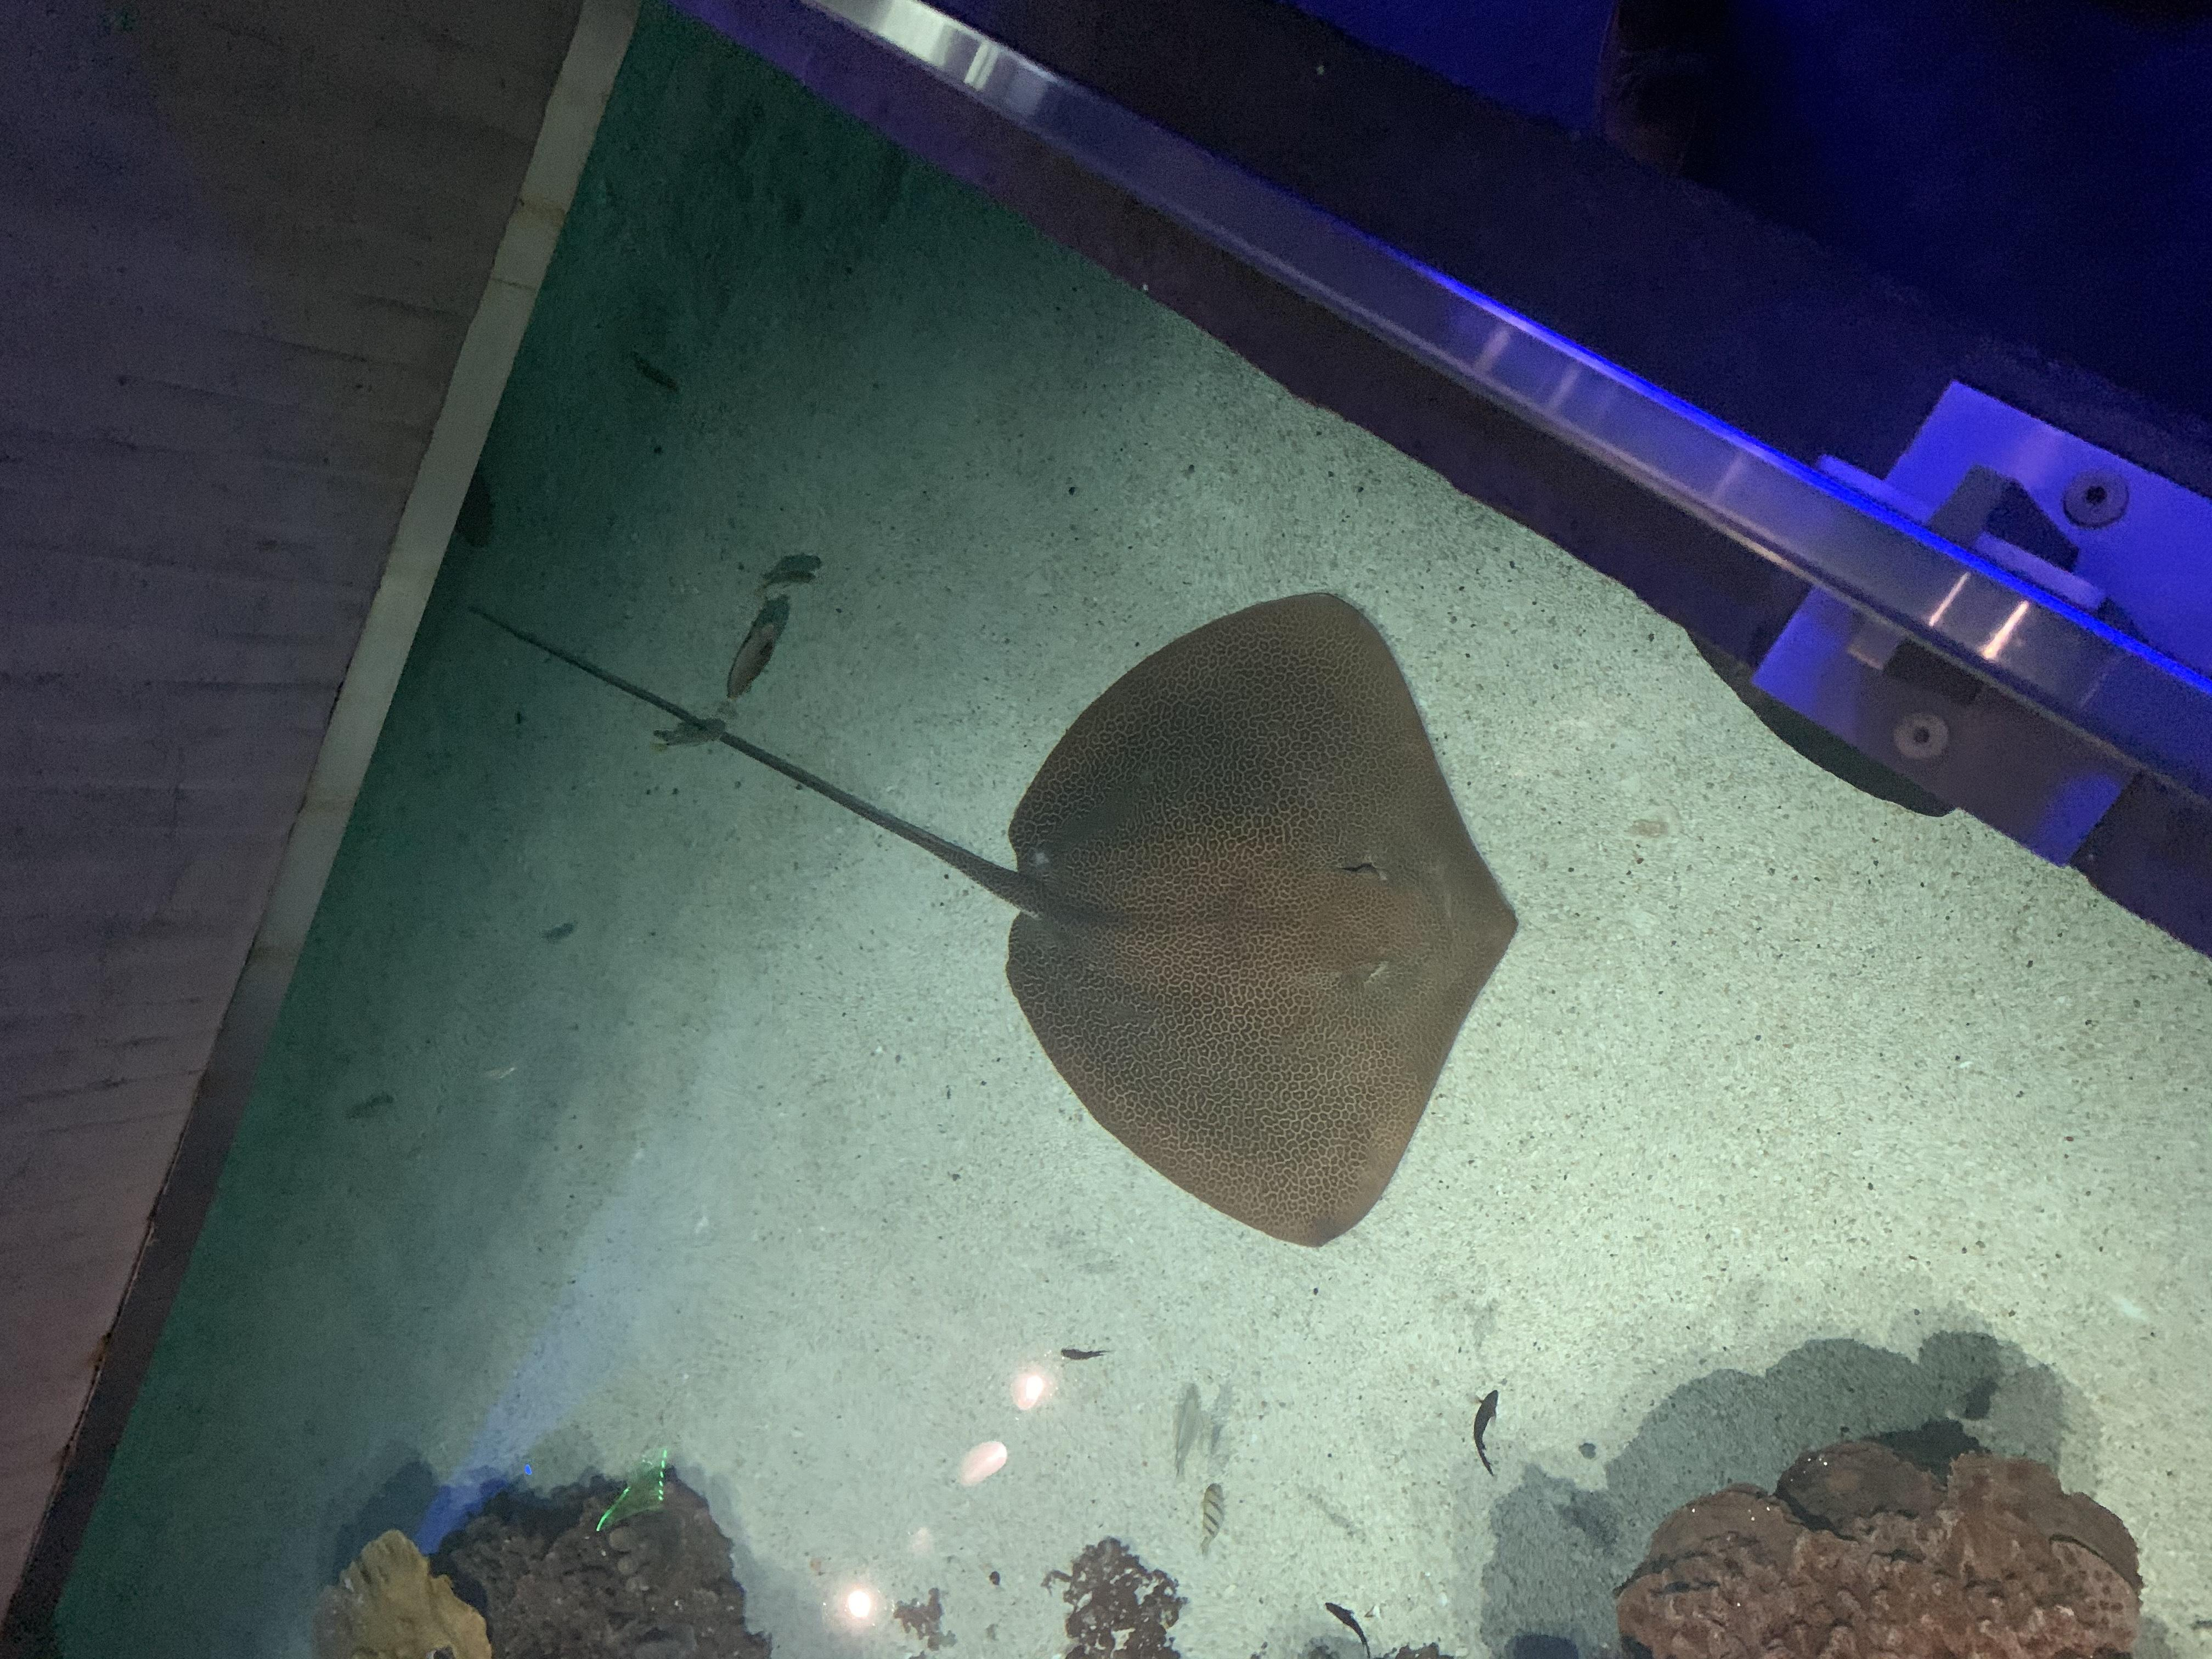fish: (725, 613, 779, 702), (1320, 1595, 1378, 1659), (1186, 1481, 1231, 1551), (1472, 1387, 1503, 1480), (1052, 1330, 1106, 1380)
stingray: (1003, 589, 1519, 1249)
